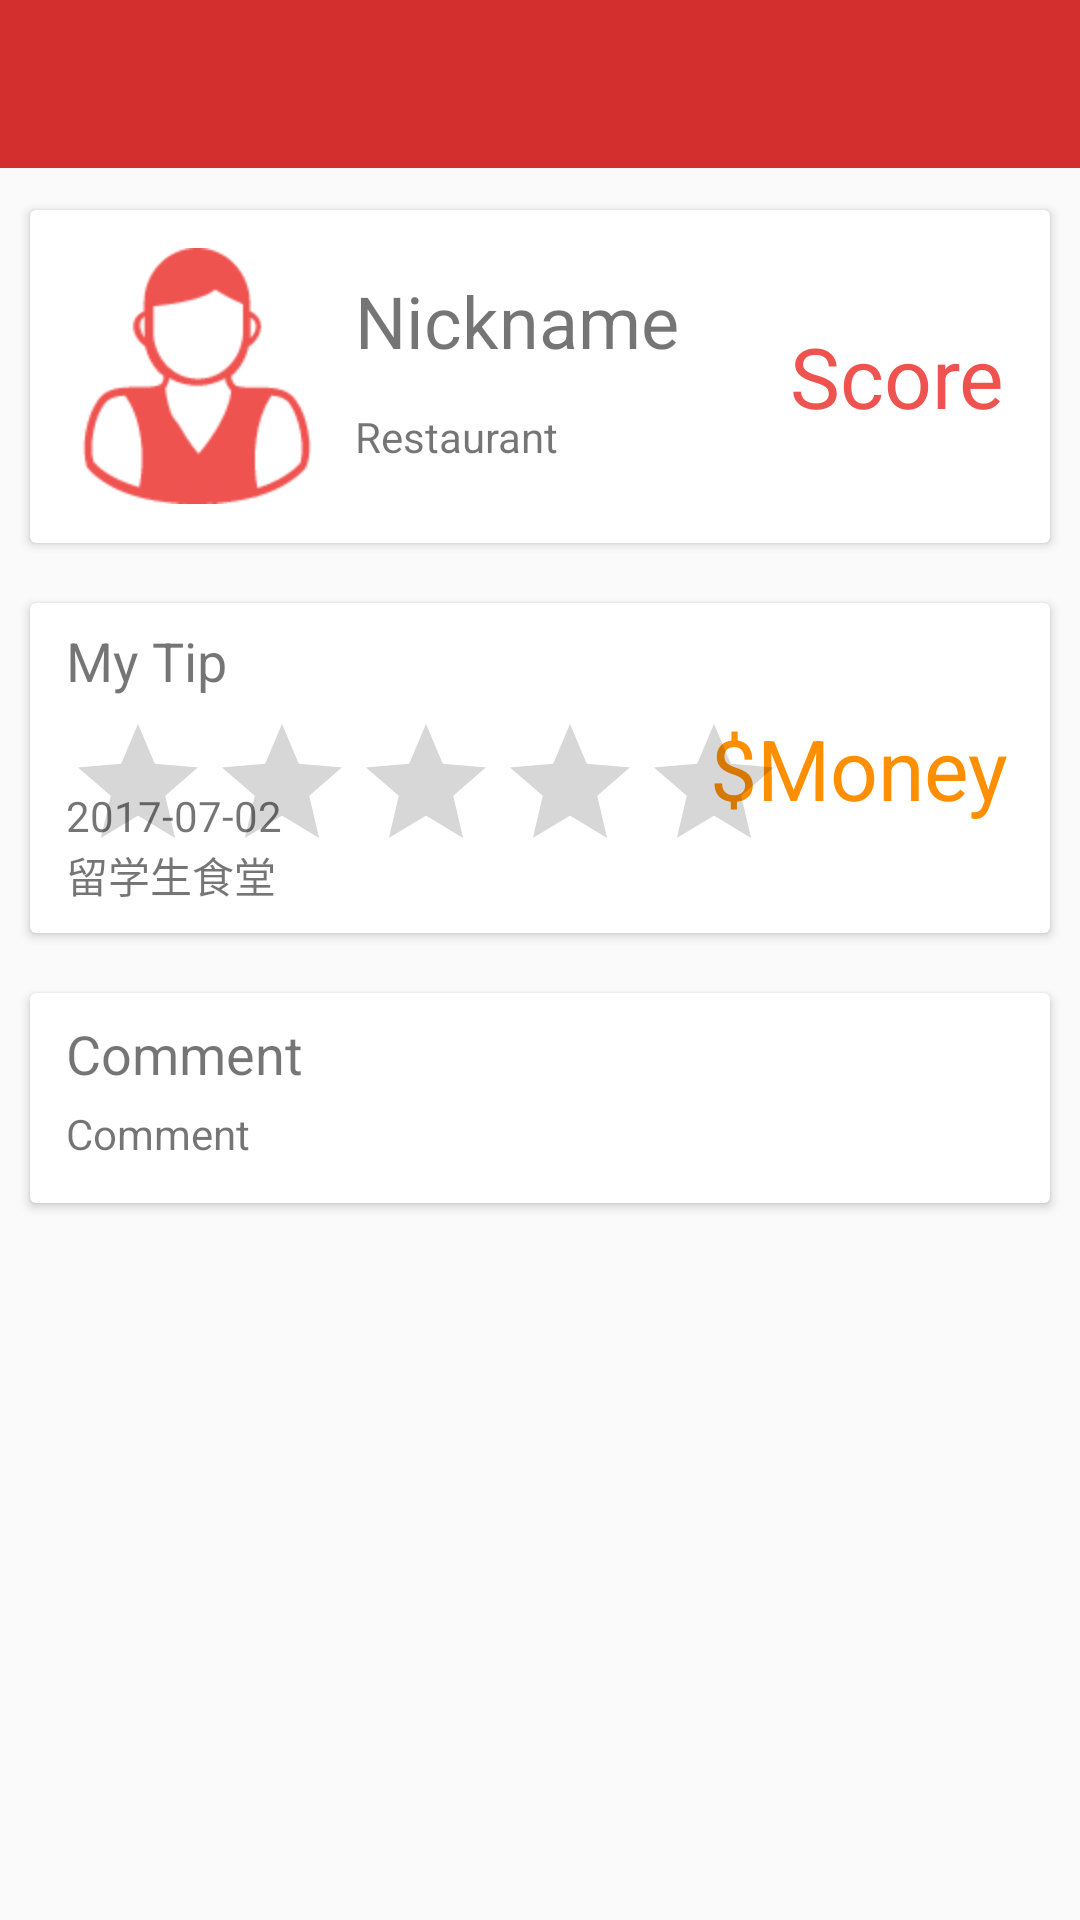

Icons on this 1080px x 1920px Android screen, each with its box as bbox=[x1, y1, x2, y2]:
waiter: bbox=[83, 248, 311, 504]
